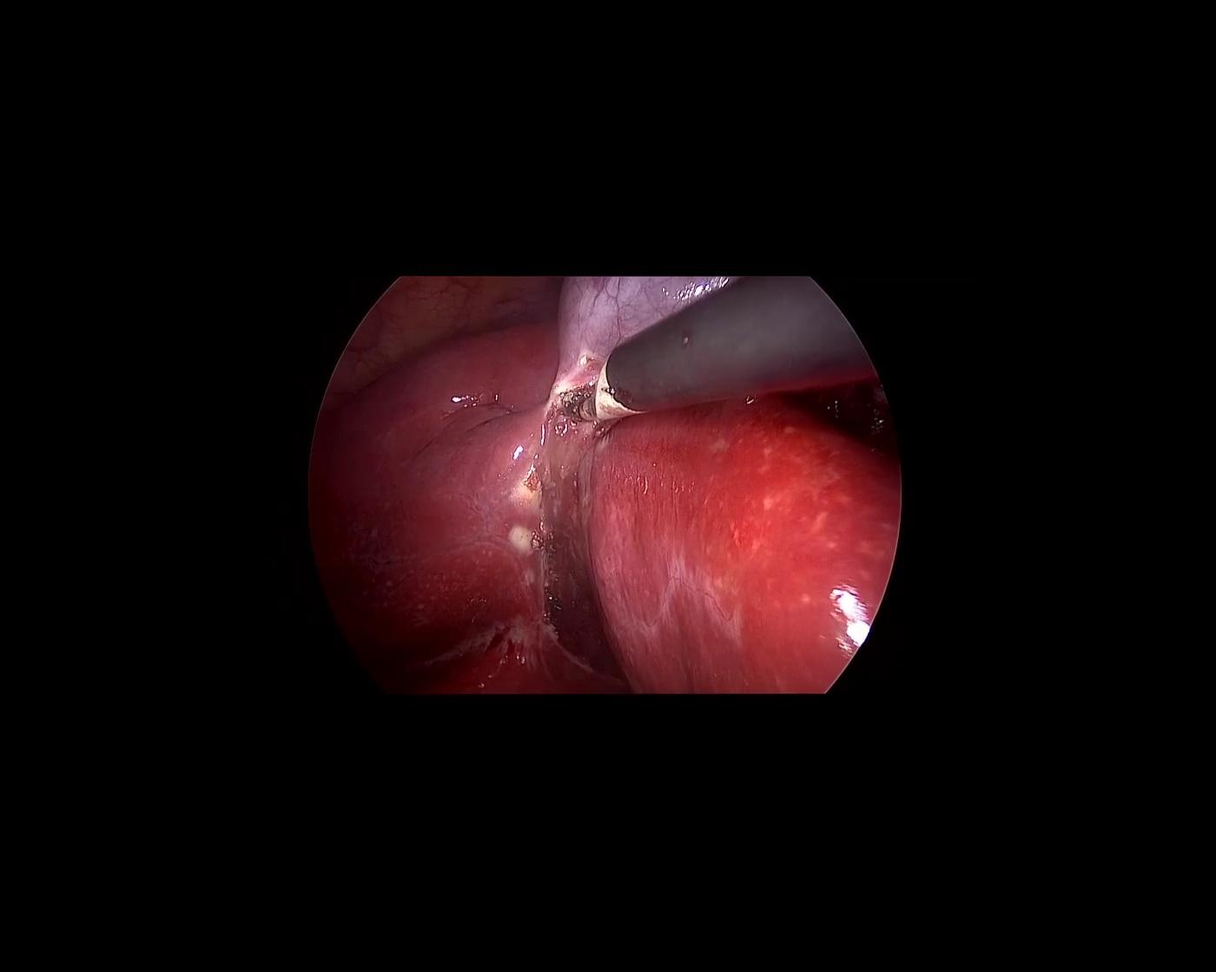Cautery: (543, 259, 880, 428)
Gallbladder: (554, 273, 744, 398)
Liver: (307, 321, 900, 694)
